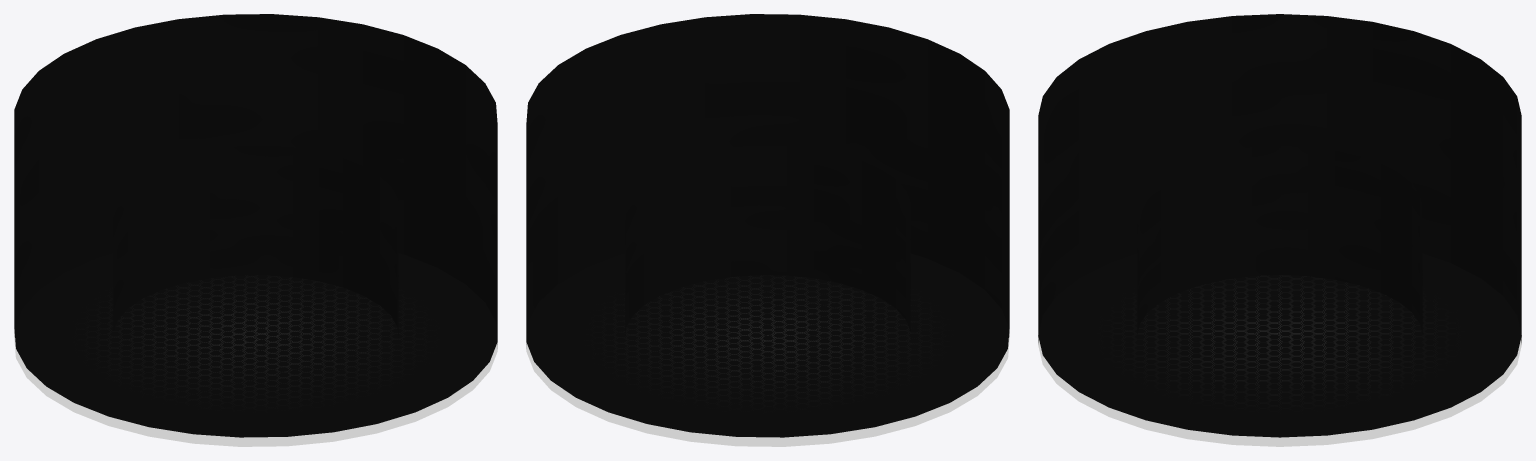
Rendered from room.glb.
3 renders of one model, left to right at view 1: azimuth 30°, elevation 25°; view 2: azimuth 150°, elevation 25°; view 3: azimuth 270°, elevation 25°, orthographic.
Parts seen in each view (by area): view 1: Inner_tcollider, Inner_xtcollider, Floor_xcollider; view 2: Inner_tcollider, Inner_xtcollider, Floor_xcollider; view 3: Inner_tcollider, Inner_xtcollider, Floor_xcollider.
Part boxes in pixels (box(x1,y1,x2,y2)): Inner_tcollider: box(14, 14, 497, 437); Inner_xtcollider: box(113, 145, 398, 338); Floor_xcollider: box(14, 329, 497, 446); Inner_tcollider: box(526, 14, 1009, 437); Inner_xtcollider: box(625, 145, 910, 338); Floor_xcollider: box(526, 329, 1009, 446); Inner_tcollider: box(1038, 14, 1521, 437); Inner_xtcollider: box(1137, 145, 1422, 333); Floor_xcollider: box(1038, 335, 1521, 446).
Size of the model in its own units: 30.14 by 15.71 by 30.14.
Materials: 2 (2 with a texture image).
